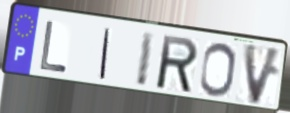I: (134, 30, 157, 89), (98, 26, 113, 82)
L: (37, 19, 69, 75)
O: (198, 41, 238, 99)
R: (156, 33, 200, 96)
V: (241, 41, 284, 108)
